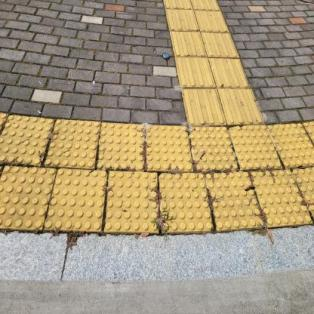Podoctatil: (0, 108, 313, 237), (157, 0, 265, 123)
